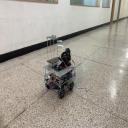cart: (43, 61, 76, 99)
